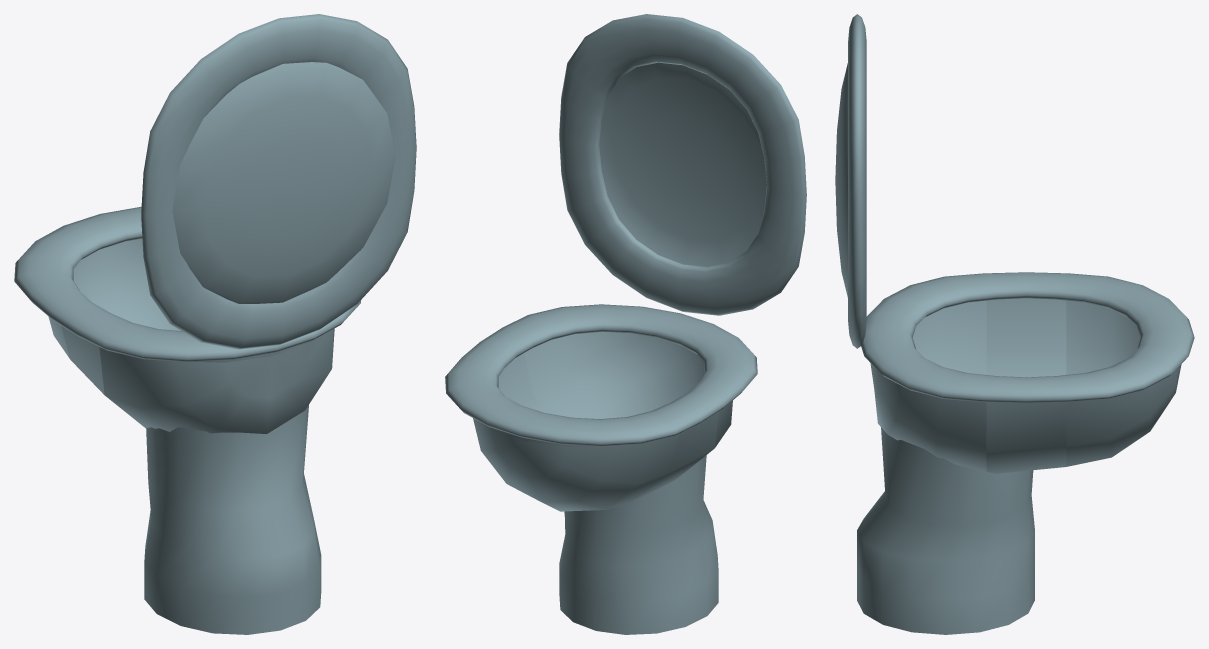
The model's file is water.FBX.
The picture shows the model from 3 angles, left to right: view 1: azimuth 30°, elevation 25°; view 2: azimuth 150°, elevation 25°; view 3: azimuth 270°, elevation 25°; orthographic projection. The views are drawn at different scales.
Parts seen in each view (by area): view 1: Sphere002, Torus002, Cylinder001, OilTank003, Torus001, OilTank004; view 2: Torus002, Sphere003, Cylinder001, Torus001, OilTank004, OilTank003; view 3: Cylinder001, Torus001, OilTank003, OilTank004, Torus002, Sphere002.
Boxes of the visible parts, bbox=[...] form: Sphere002: bbox=[172, 62, 395, 303]; Torus002: bbox=[141, 14, 416, 349]; Cylinder001: bbox=[144, 405, 321, 634]; OilTank003: bbox=[48, 316, 334, 433]; Torus001: bbox=[14, 206, 360, 362]; OilTank004: bbox=[73, 238, 311, 362]; Torus002: bbox=[559, 14, 806, 315]; Sphere003: bbox=[599, 62, 766, 266]; Cylinder001: bbox=[559, 455, 718, 634]; Torus001: bbox=[445, 304, 757, 446]; OilTank004: bbox=[490, 331, 704, 446]; OilTank003: bbox=[473, 400, 732, 511]; Cylinder001: bbox=[857, 427, 1034, 634]; Torus001: bbox=[861, 272, 1194, 403]; OilTank003: bbox=[870, 363, 1181, 473]; OilTank004: bbox=[912, 298, 1140, 377]; Torus002: bbox=[848, 14, 866, 348]; Sphere002: bbox=[835, 63, 847, 297].
Size of the model in its own units: 253 by 538 by 307.
